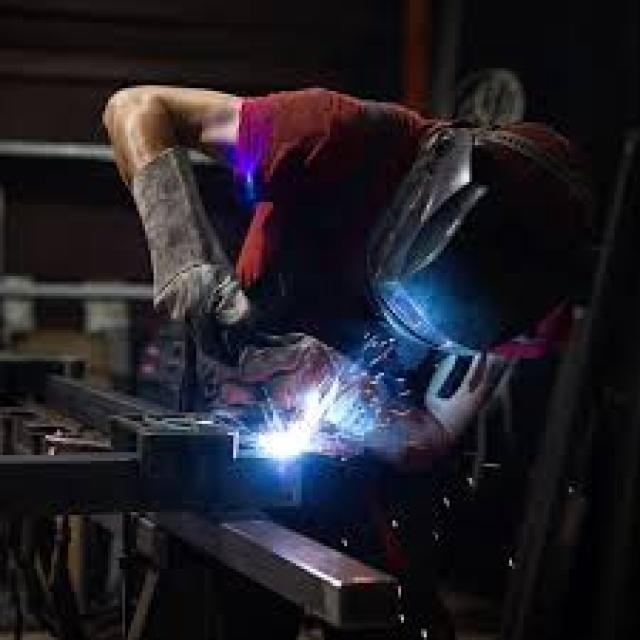welding: (260, 425, 314, 456)
